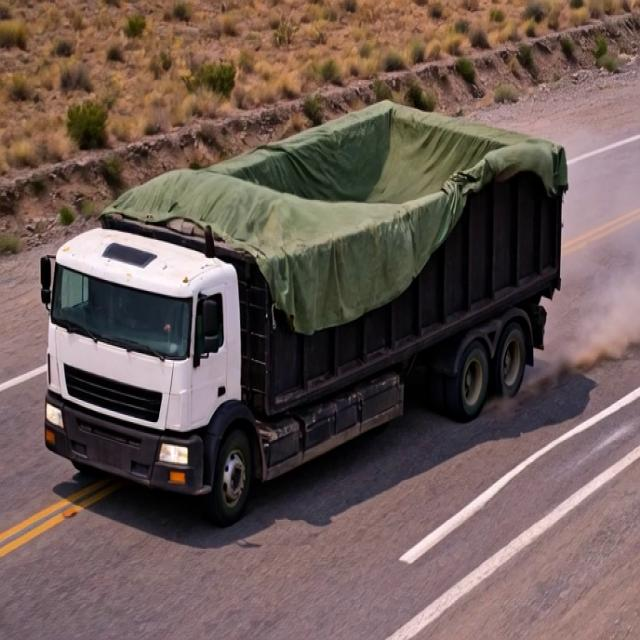trailer: (98, 98, 575, 282)
truck: (41, 49, 589, 516)
